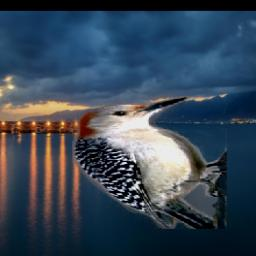Woodpecker: (73, 97, 228, 230)
